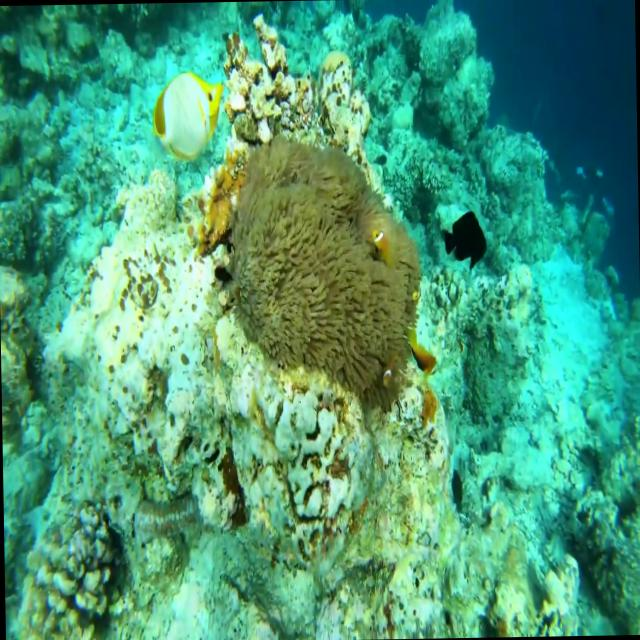fish: (139, 58, 237, 178), (440, 196, 496, 278), (406, 338, 448, 382), (372, 216, 389, 254)
